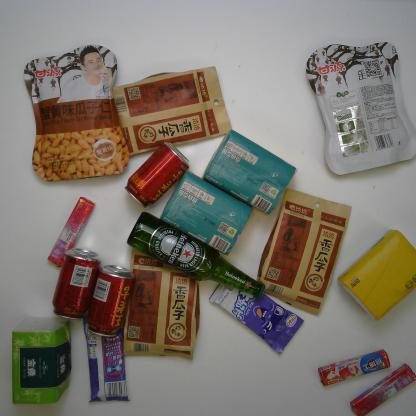Alcohol: (123, 214, 268, 300)
Candy: (206, 272, 304, 358), (79, 313, 142, 406), (46, 188, 96, 270), (342, 360, 416, 413), (309, 345, 398, 389)
Dried Food: (258, 174, 354, 318), (108, 59, 237, 152), (122, 239, 201, 369)
Dried Fruit: (298, 21, 416, 181), (15, 35, 133, 188)
Drink: (118, 141, 197, 210), (50, 240, 106, 323), (83, 264, 136, 338)
Tissue: (160, 161, 253, 261), (204, 118, 294, 214), (335, 226, 411, 326), (10, 309, 70, 410)
